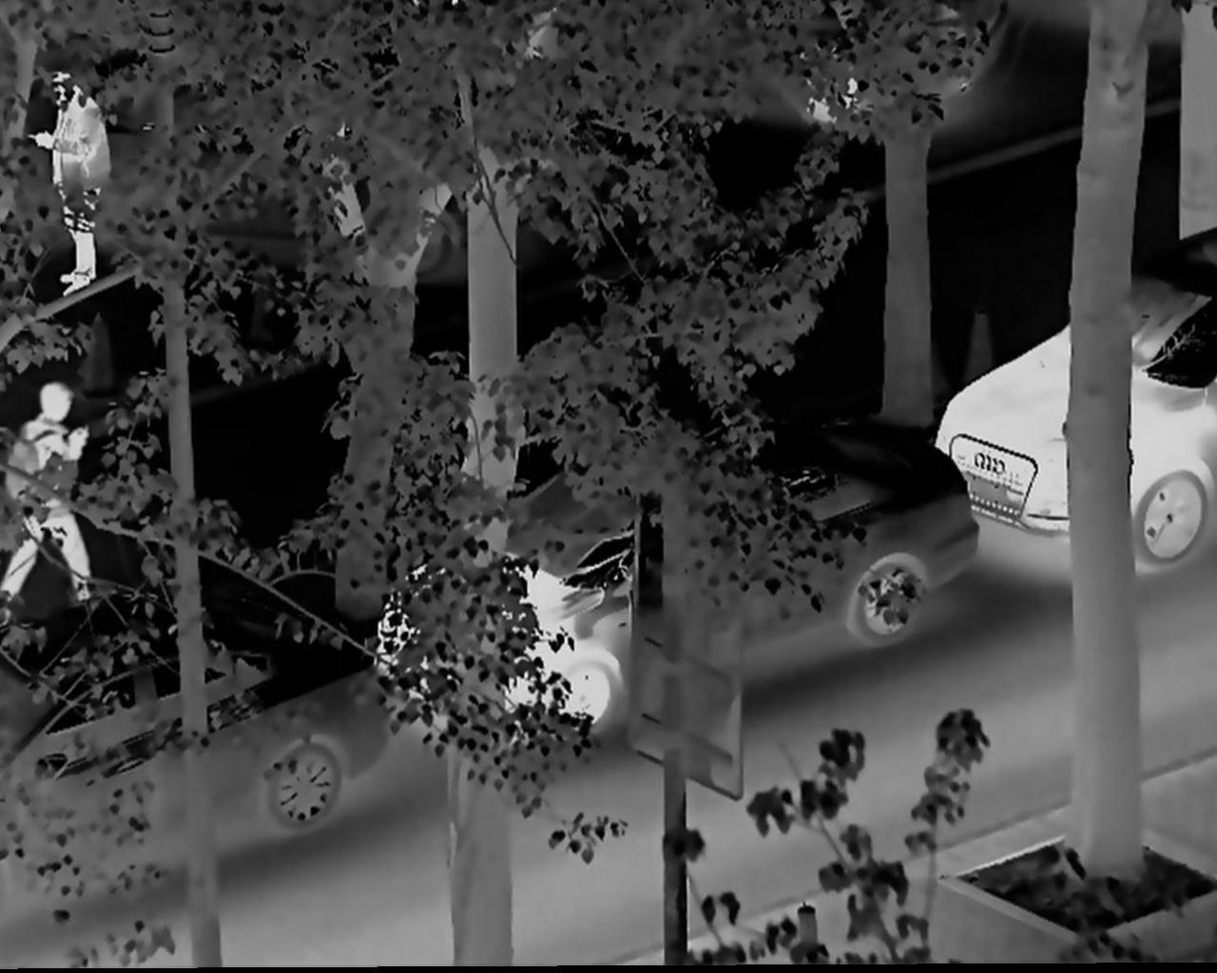person: (4, 378, 90, 628), (31, 71, 106, 293)
